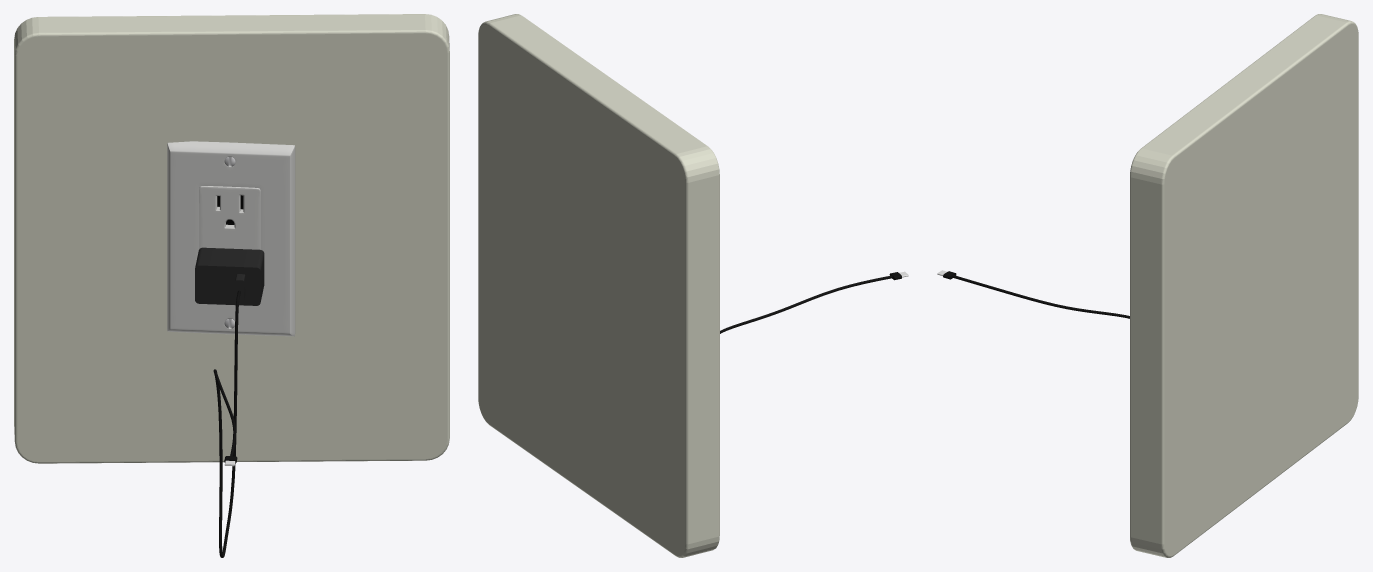
The model's file is Phone_Charger_Cable_Wall.glb.
3 renders of one model, left to right at view 1: azimuth 30°, elevation 25°; view 2: azimuth 150°, elevation 25°; view 3: azimuth 270°, elevation 25°, orthographic. The views are drawn at different scales.
Parts seen in each view (by area): view 1: Cube.001, Wallplate_Duplex_Rectangle, Recepticle_Double_Standard, Cube.002, Extruded.005; view 2: Cube.001, Extruded.005; view 3: Cube.001, Extruded.005.
Boxes of the visible parts, x1=… form: Cube.001: x1=14, y1=14, x2=449, y2=463; Wallplate_Duplex_Rectangle: x1=167, y1=141, x2=295, y2=336; Recepticle_Double_Standard: x1=199, y1=186, x2=260, y2=249; Cube.002: x1=195, y1=247, x2=264, y2=305; Extruded.005: x1=213, y1=290, x2=240, y2=557; Cube.001: x1=478, y1=14, x2=719, y2=557; Extruded.005: x1=720, y1=275, x2=892, y2=333; Cube.001: x1=1130, y1=14, x2=1358, y2=557; Extruded.005: x1=952, y1=275, x2=1129, y2=318.
Bounding box in the file's own units: 18.87 × 24.89 × 21.4.
5 materials, 1 textured.
